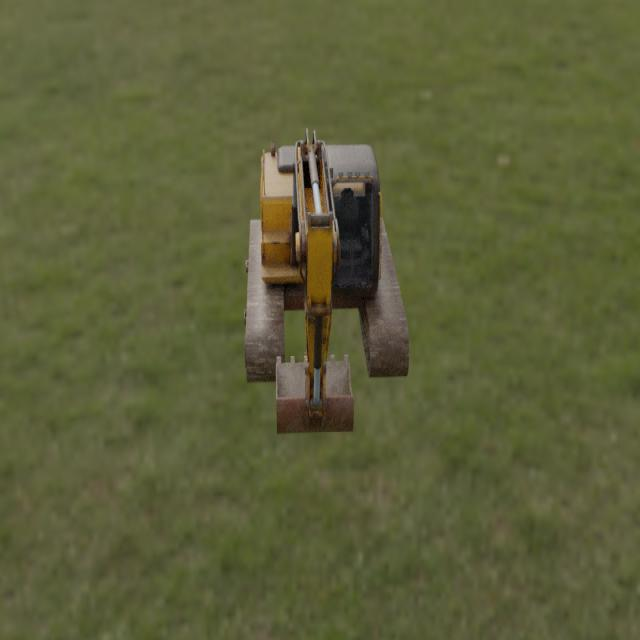excavator: (243, 130, 409, 433)
